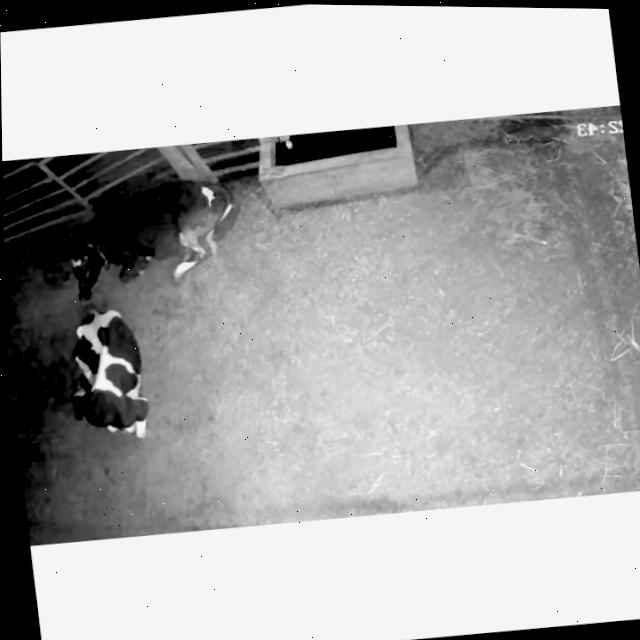lay: (73, 179, 238, 283), (73, 309, 149, 437)
